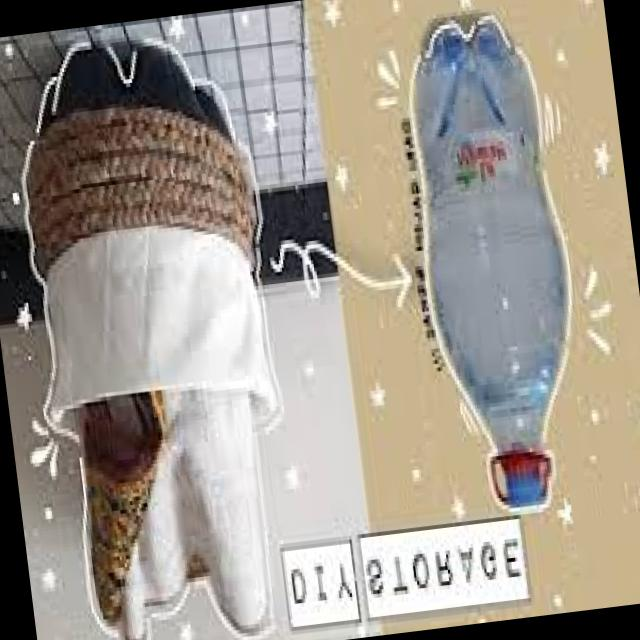Galon: (364, 0, 616, 527)
